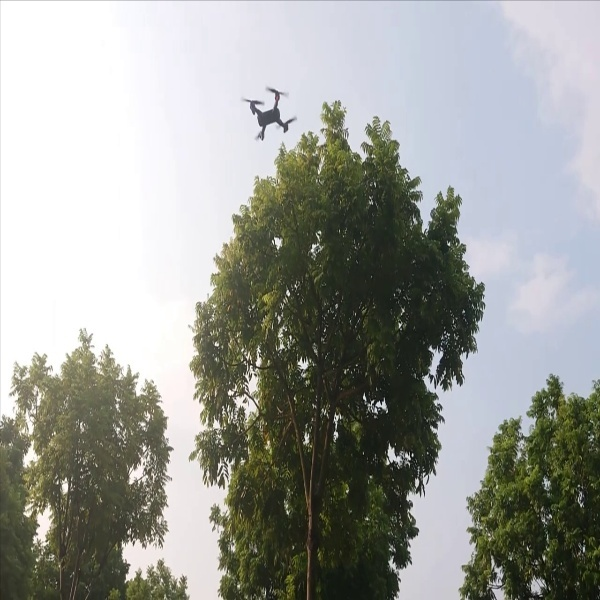drone: (238, 82, 302, 143)
